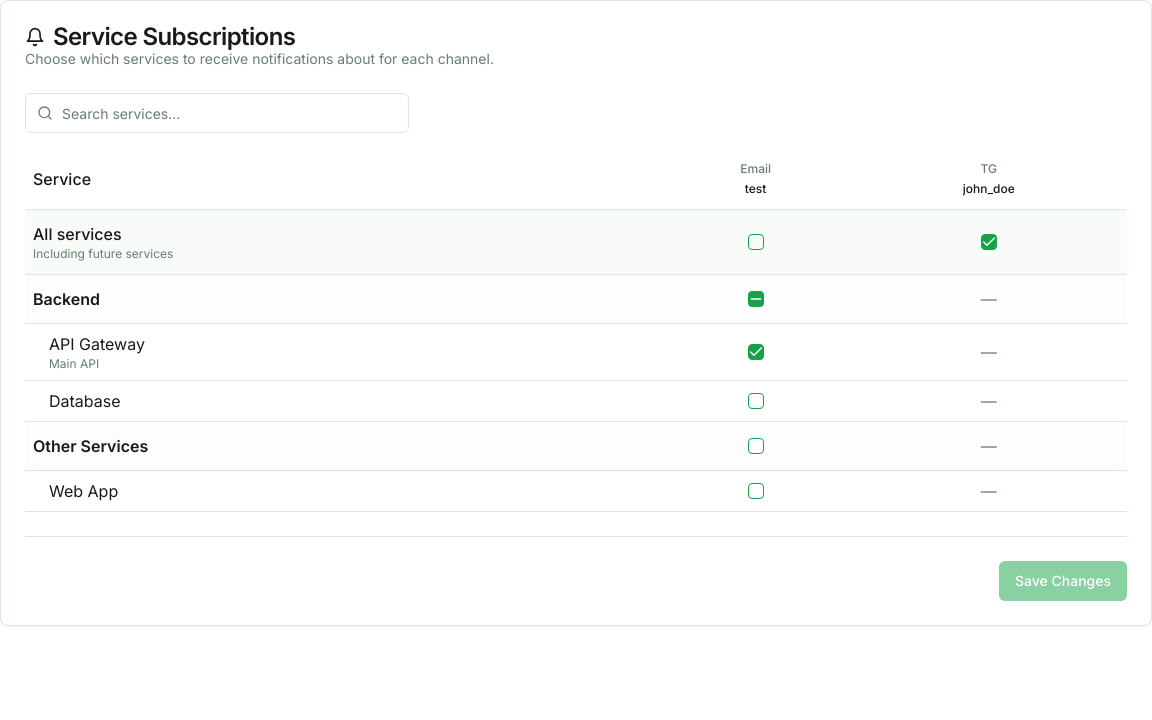
it: SubscriptionEditor › Search › performs case-insensitive matching
The image size is (1152, 720).
Expected: the text "Database" is shown, [49, 391, 120, 411]
In the field with placeholder "Search services...": (217, 113) [25, 93, 409, 133], type "DATABASE"
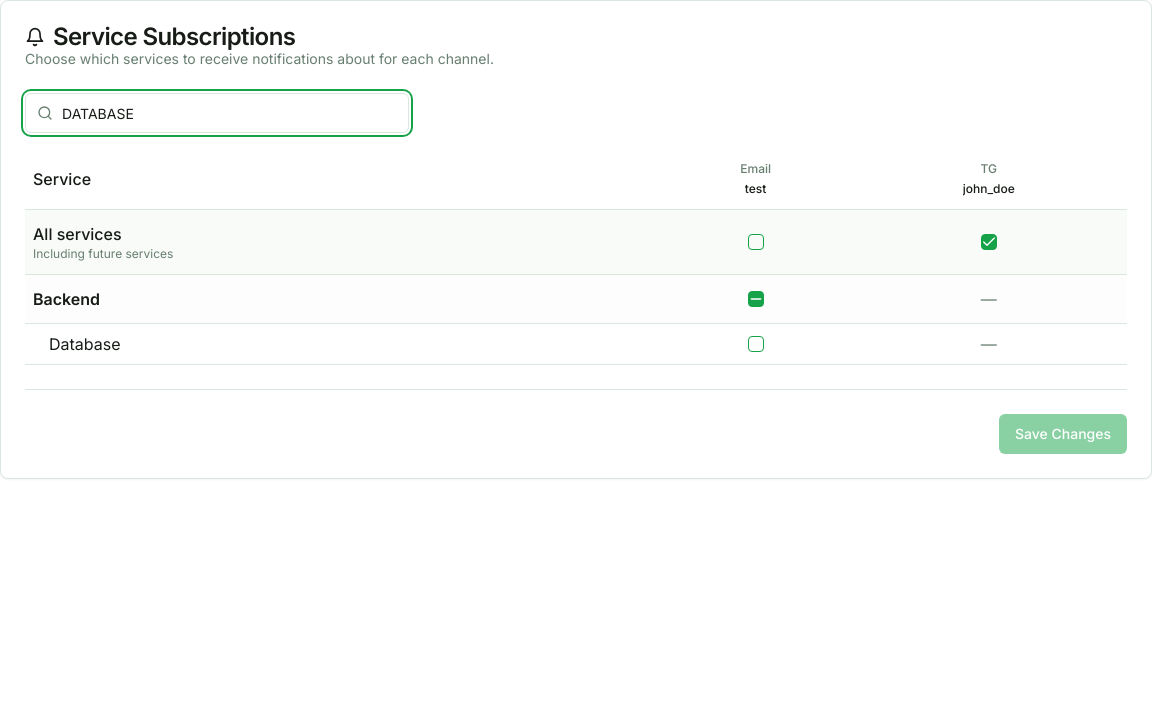
Expected: the text "Database" is shown, [49, 334, 120, 354]
Result: the text "API Gateway" is gone
Result: the text "Web App" is gone
